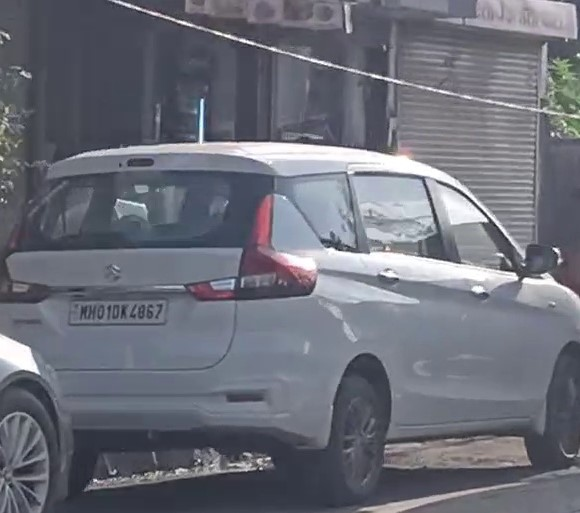MH01DK4867: (69, 299, 168, 323)
